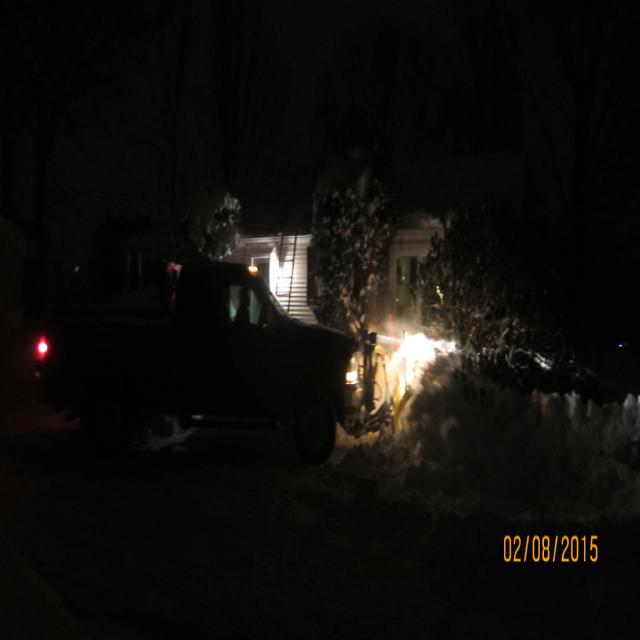car: (64, 244, 374, 456)
